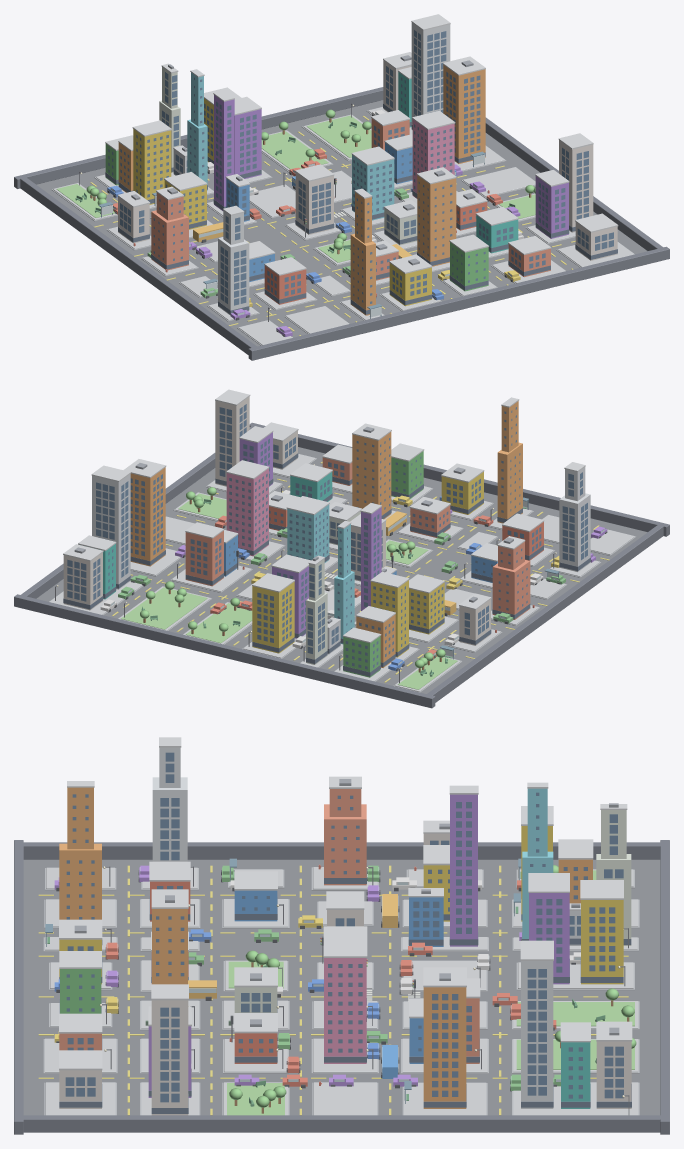
File: City.fbx
3 views of the same model, one above another, from view 1: azimuth 30°, elevation 25°; view 2: azimuth 150°, elevation 25°; view 3: azimuth 270°, elevation 25° (orthographic). The views are drawn at different scales.
Parts seen in each view (by area): view 1: Buildings, Ground, Parks, Vehicles, RoadMarks, StreetProps; view 2: Buildings, Ground, Parks, Vehicles, RoadMarks, StreetProps; view 3: Ground, Buildings, Vehicles, Parks, RoadMarks, StreetProps.
Boxes of the visible parts, bbox=[...] form: Buildings: bbox=[105, 14, 618, 315]; Ground: bbox=[14, 87, 669, 360]; Parks: bbox=[56, 109, 535, 262]; Vehicles: bbox=[107, 110, 523, 336]; RoadMarks: bbox=[90, 116, 575, 335]; StreetProps: bbox=[75, 103, 515, 321]; Buildings: bbox=[63, 389, 590, 677]; Ground: bbox=[14, 422, 669, 708]; Parks: bbox=[121, 487, 457, 689]; Vehicles: bbox=[100, 490, 607, 671]; RoadMarks: bbox=[112, 461, 609, 682]; StreetProps: bbox=[55, 464, 559, 683]; Ground: bbox=[14, 840, 669, 1134]; Buildings: bbox=[59, 737, 632, 1115]; Vehicles: bbox=[54, 865, 580, 1091]; Parks: bbox=[227, 865, 636, 1115]; RoadMarks: bbox=[38, 865, 628, 1115]; StreetProps: bbox=[45, 858, 629, 1114].
Bounding box in the file's own units: 96.8 × 26.2 × 95.4.
